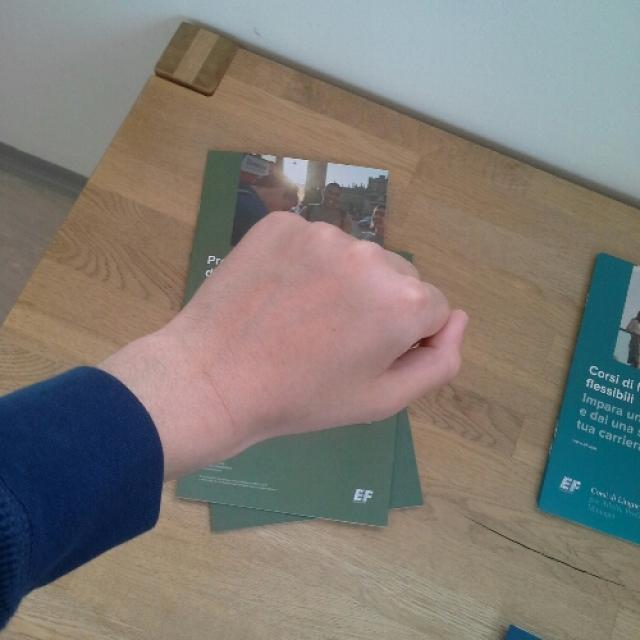rock: (201, 208, 470, 434)
